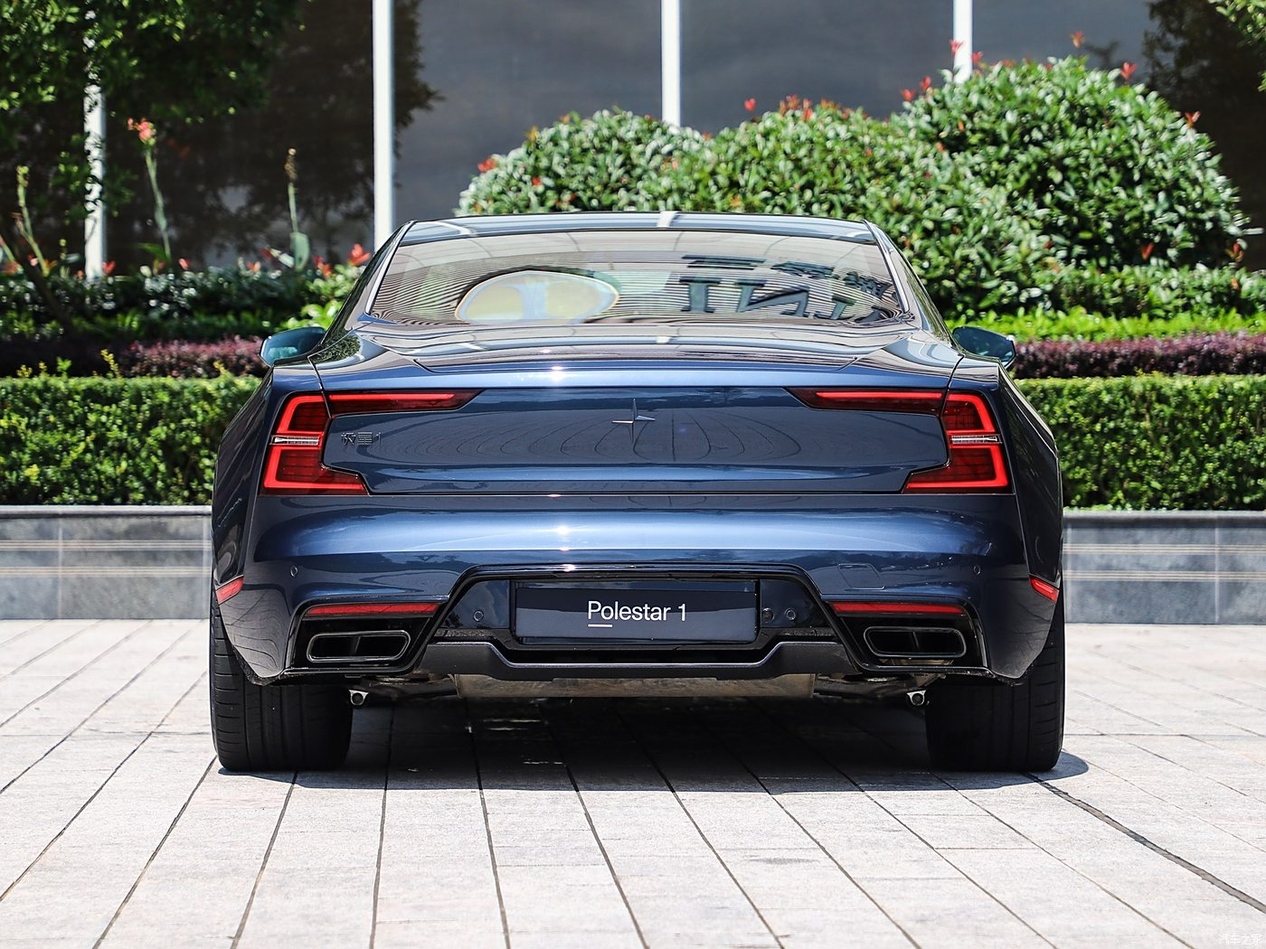Polestar: (612, 399, 655, 442)
